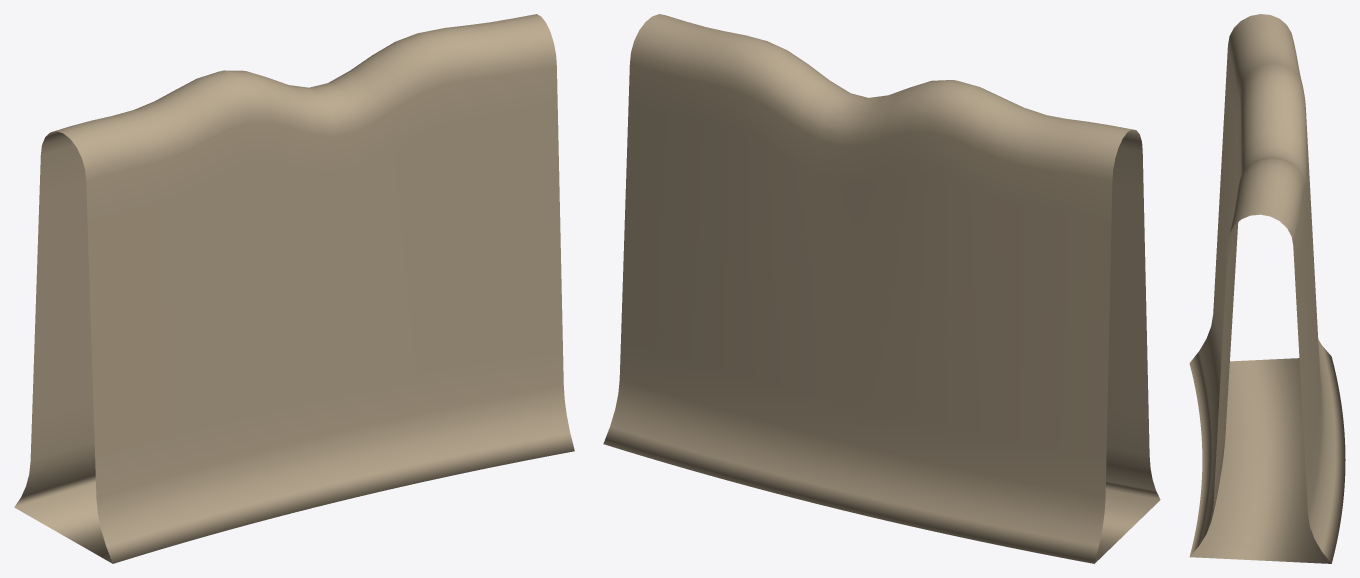
File: KFB_Wall_curved_ring_r5.r3.glb
The picture shows the model from 3 angles, left to right: view 1: azimuth 30°, elevation 25°; view 2: azimuth 150°, elevation 25°; view 3: azimuth 270°, elevation 25°; orthographic projection. The views are drawn at different scales.
Visible parts, largest first — view 1: KFB_Wall_curved_ring_r5; view 2: KFB_Wall_curved_ring_r5; view 3: KFB_Wall_curved_ring_r5.
Part boxes in pixels (x1,y1,x2,y2): KFB_Wall_curved_ring_r5: (14, 14, 574, 563); KFB_Wall_curved_ring_r5: (603, 14, 1160, 563); KFB_Wall_curved_ring_r5: (1189, 14, 1345, 563).
Bounding box in the file's own units: 4.63 × 3.72 × 1.47.
